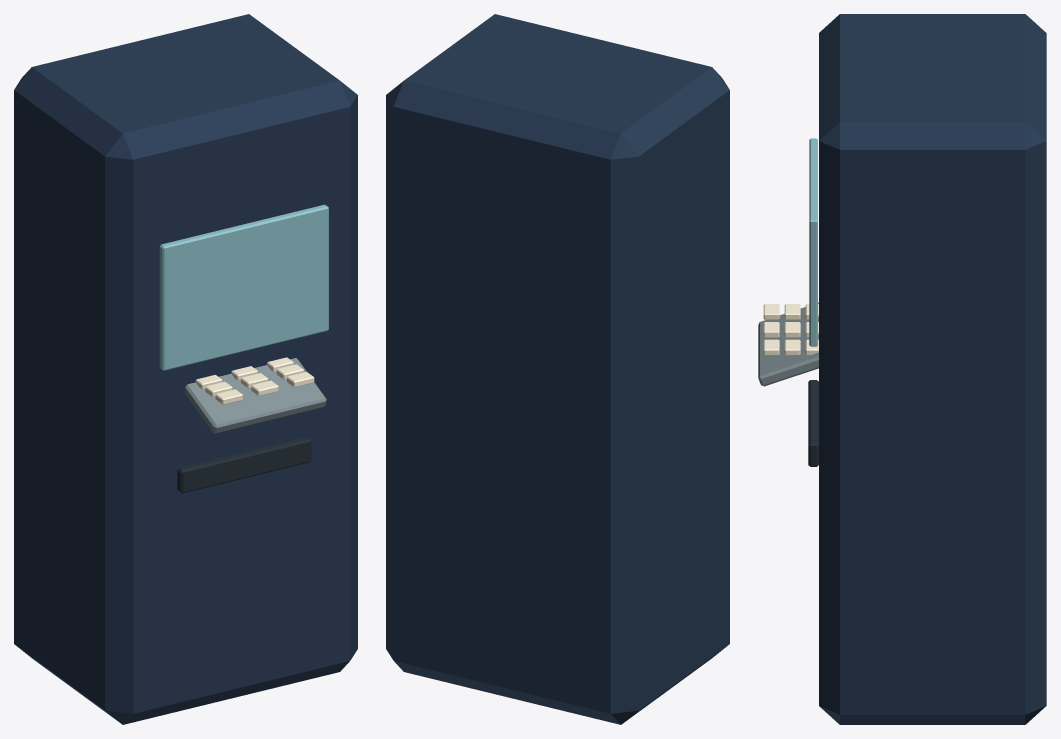
The model's file is Prop_ATM.fbx.
3 views of the same model, side by side, from view 1: azimuth 30°, elevation 25°; view 2: azimuth 150°, elevation 25°; view 3: azimuth 270°, elevation 25° (orthographic).
Visible parts, largest first — view 1: Housing, Screen.001, Keypad, CashSlot; view 2: Housing; view 3: Housing, Keypad, Screen.001, CashSlot.
Part boxes in pixels (x1,y1,x2,y2): Housing: (14,14,357,724); Screen.001: (159,204,328,370); Keypad: (185,358,326,433); CashSlot: (177,437,311,493); Housing: (386,14,729,724); Housing: (819,14,1046,724); Keypad: (758,302,818,386); Screen.001: (809,138,817,346); CashSlot: (808,380,818,466).
Size of the model in its own units: 0.85 by 1.9 by 0.8225.
